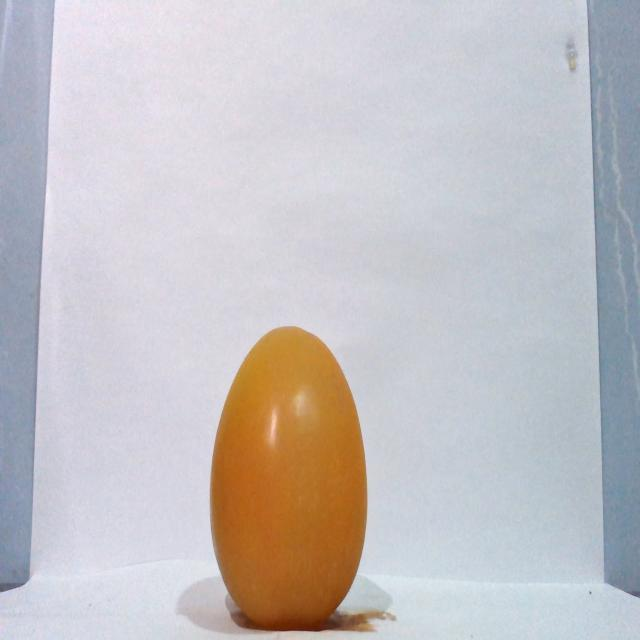Red: (207, 324, 369, 630)
